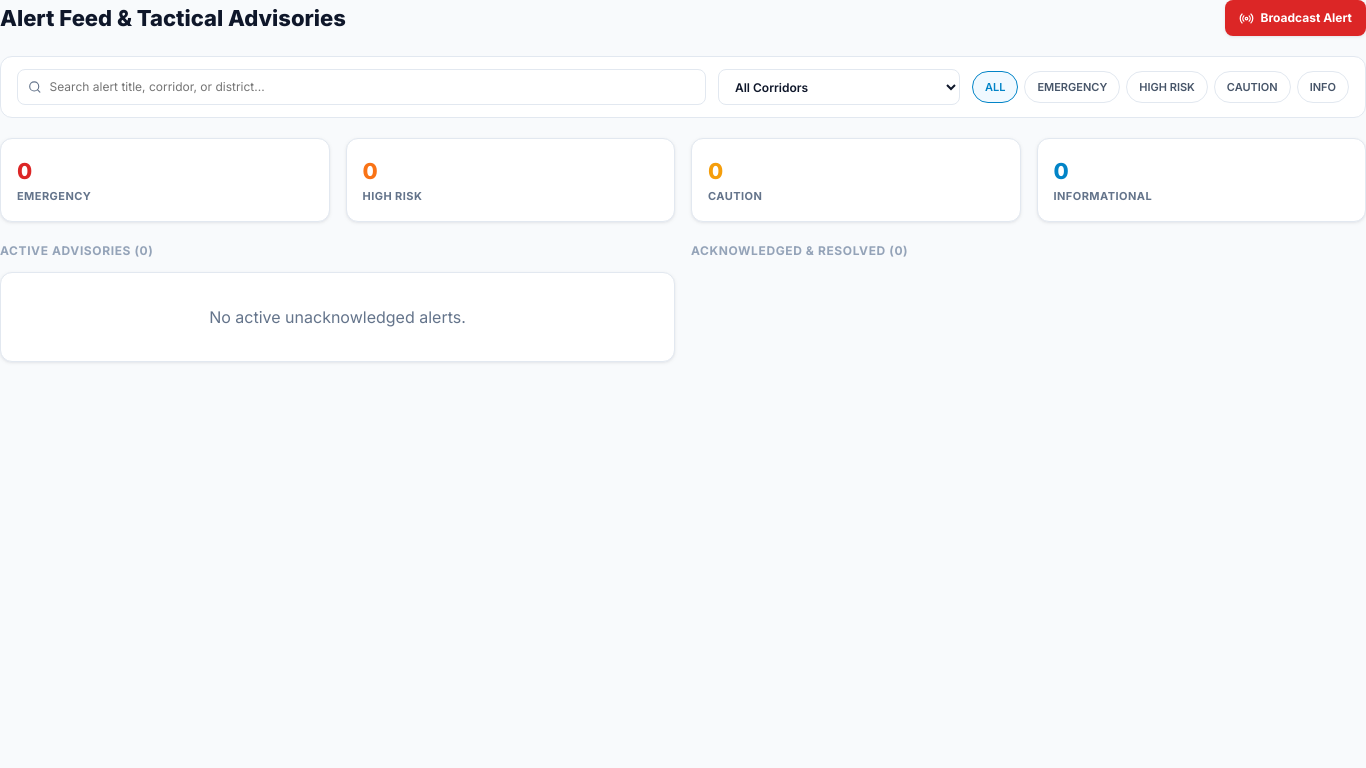
Test: Web Platform Interactive Inputs & Consoles › AlertFeed Interactivity › filters alerts by search query and allows broadcasting a new alert
Note: Search filtering
In the field with placeholder "Search alert title, corridor, or district...": (372, 87) 50,78 -> 695,96, type "NH-06"
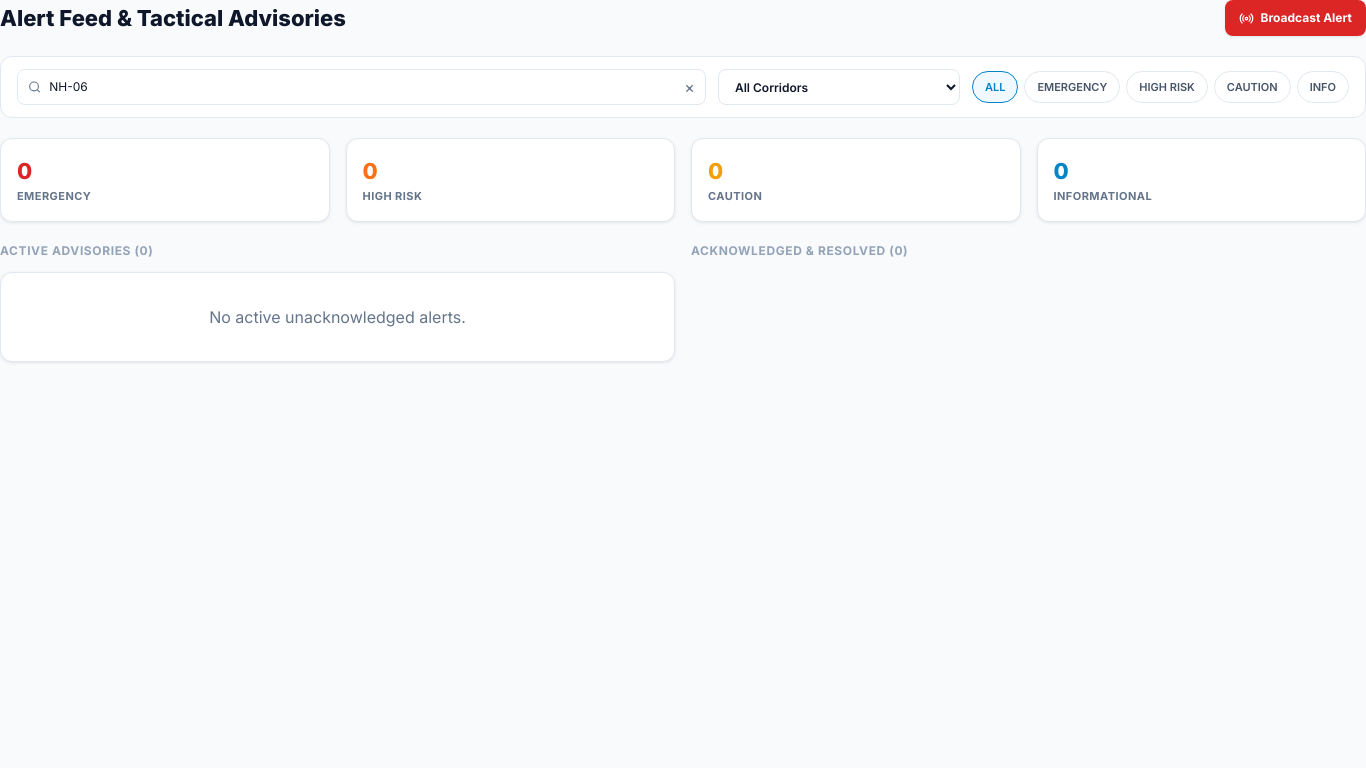
Note: Open Broadcast Modal
Click the button "Broadcast Alert": (1296, 18) 1226,0 -> 1365,36
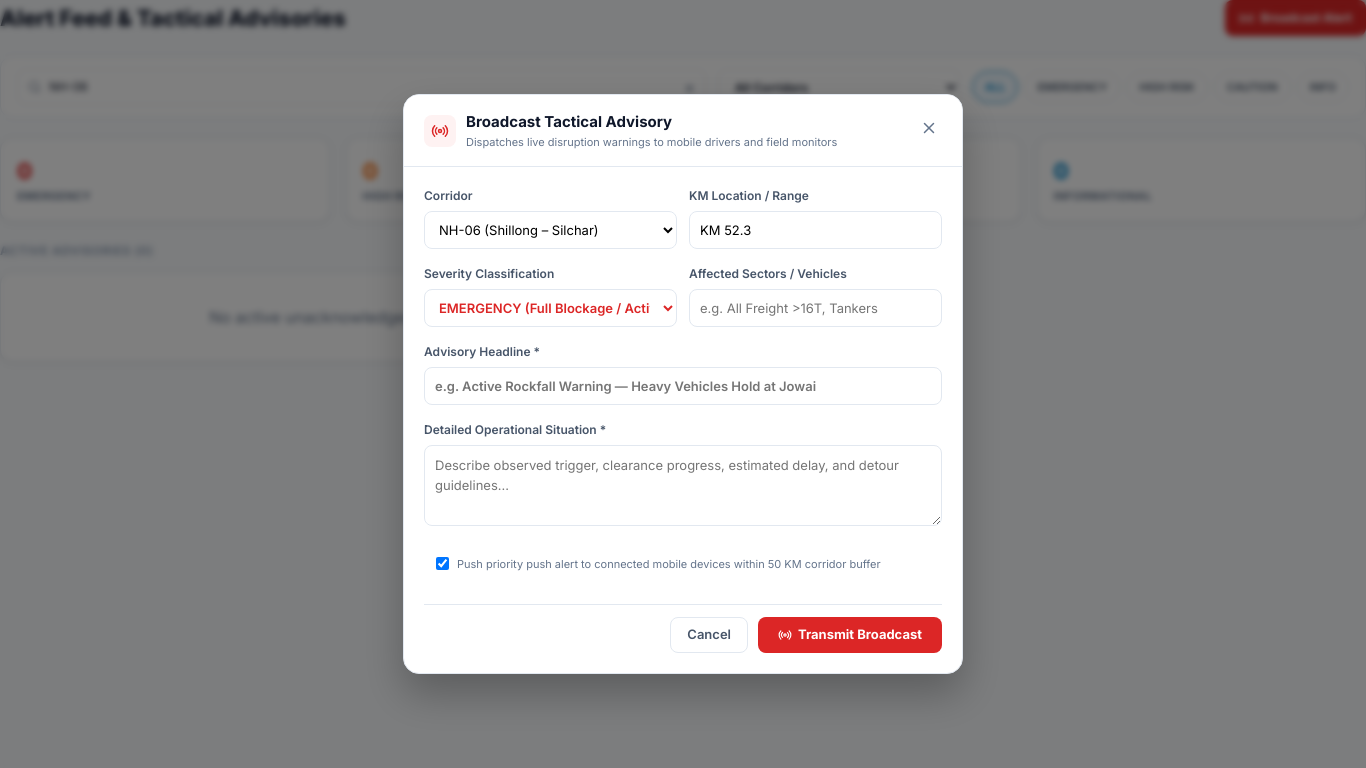
Check: the text "Broadcast Tactical Advisory" is shown, box 466,112 -> 672,131
Note: Enter headline & situation description
In the field with placeholder "e.g. Active Rockfall Warning — Heavy Vehicles Hold at Jowai": (683, 386) 424,367 -> 942,405, type "Emergency Test Advisory NH-06"
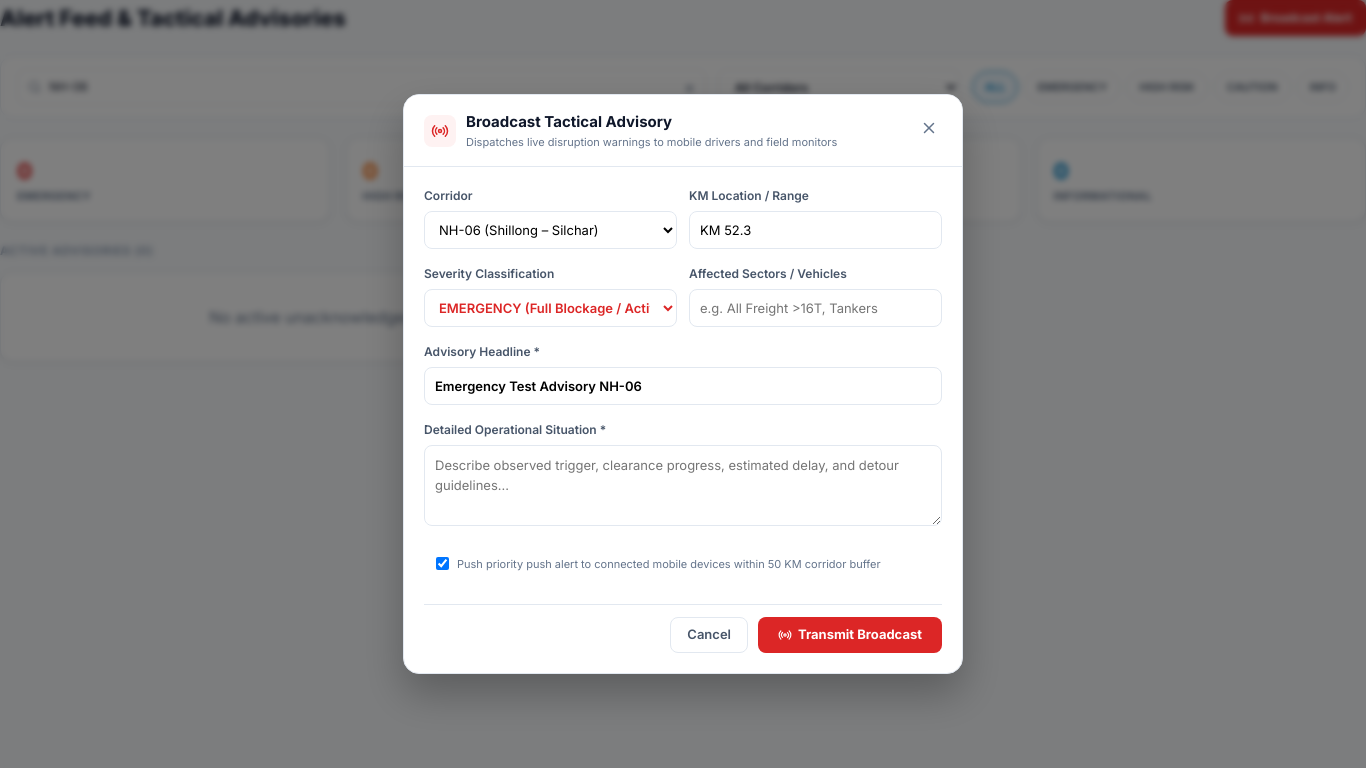
Replace the text in the text box with placeholder "Describe observed trigger" with "Single-lane debris clearance underway.": (683, 485) 424,445 -> 942,526
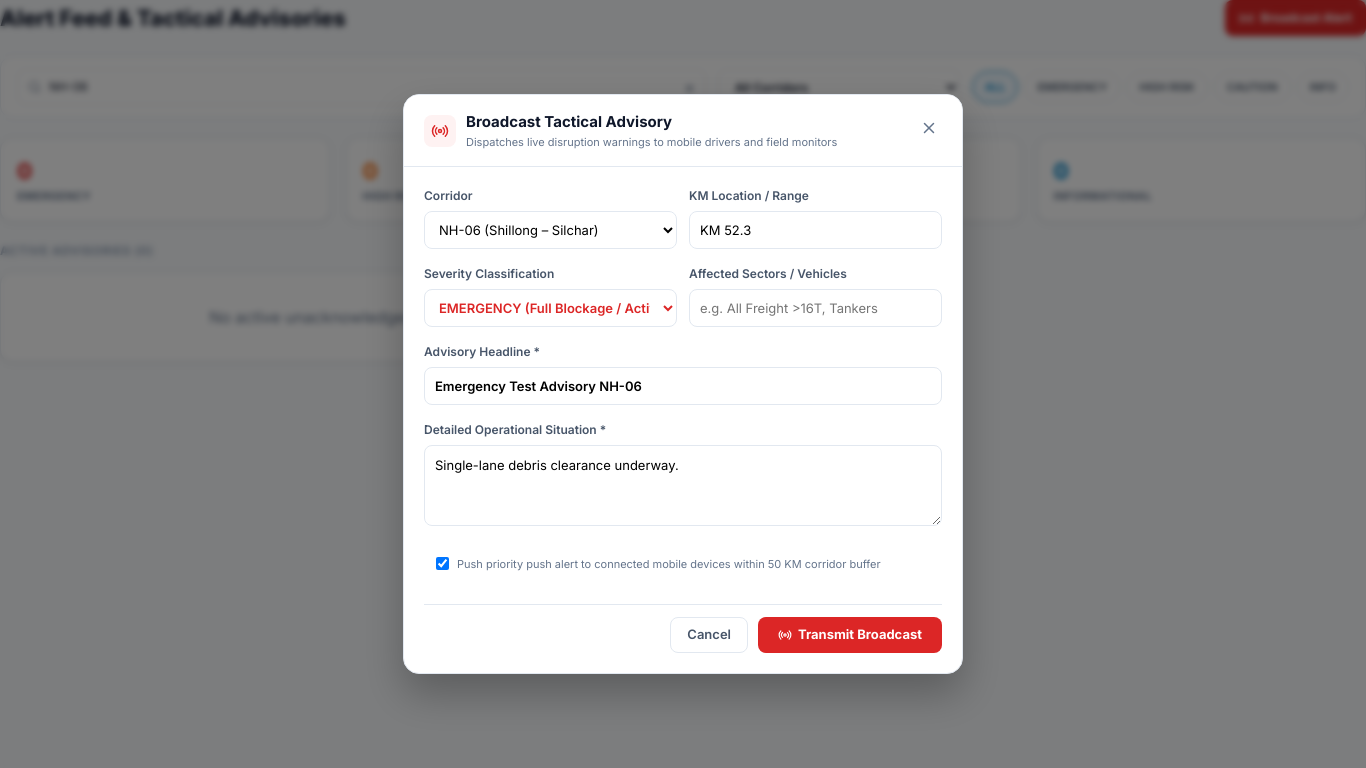
Note: Transmit broadcast
Click the button "Transmit Broadcast": (850, 635) 758,617 -> 942,653
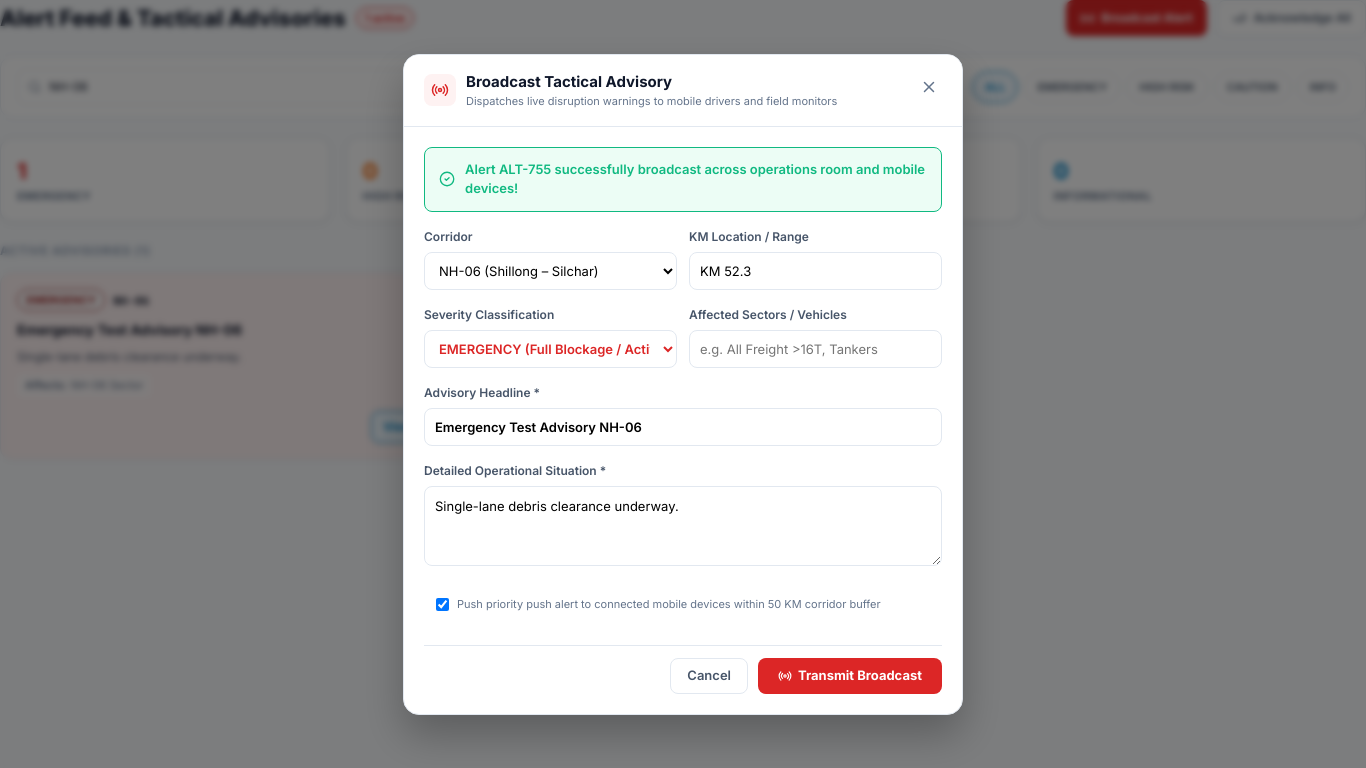
Check: the text "successfully broadcast across operations room" is shown, box 465,160 -> 925,196
